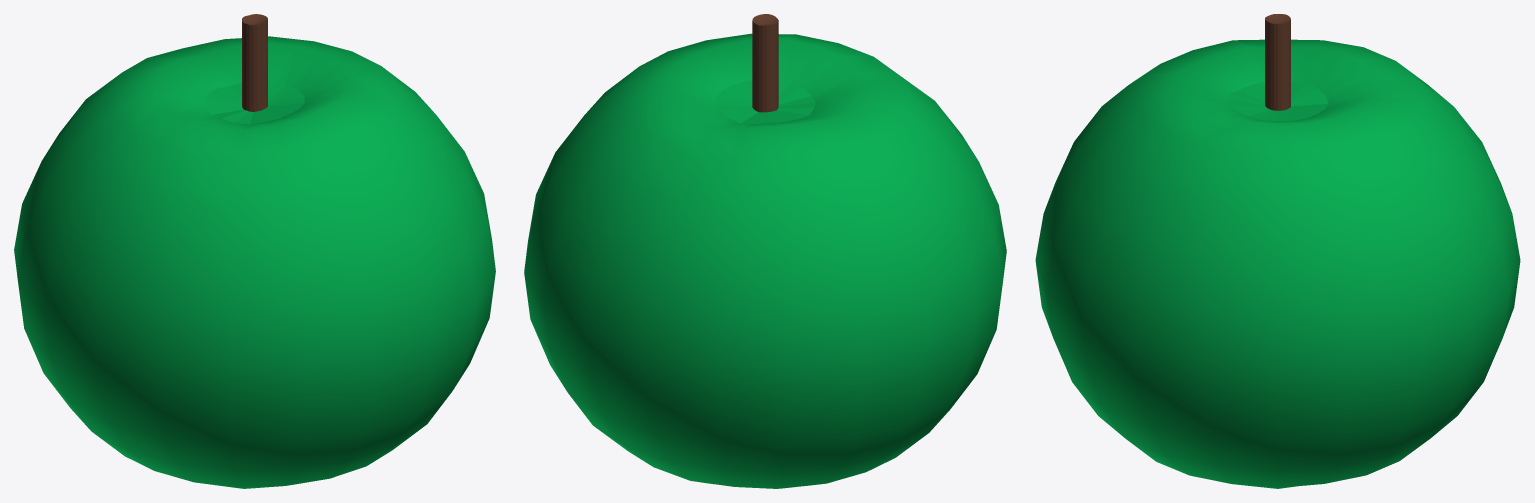
Rendered from greenapple.fbx.
3 renders of one model, left to right at view 1: azimuth 30°, elevation 25°; view 2: azimuth 150°, elevation 25°; view 3: azimuth 270°, elevation 25°, orthographic.
Visible parts, largest first — view 1: apple; view 2: apple; view 3: apple.
Part boxes in pixels (bbox=[...]): apple: bbox=[14, 14, 495, 488]; apple: bbox=[524, 14, 1006, 488]; apple: bbox=[1035, 14, 1520, 488].
Size of the model in its own units: 1.98 by 1.93 by 1.98.
